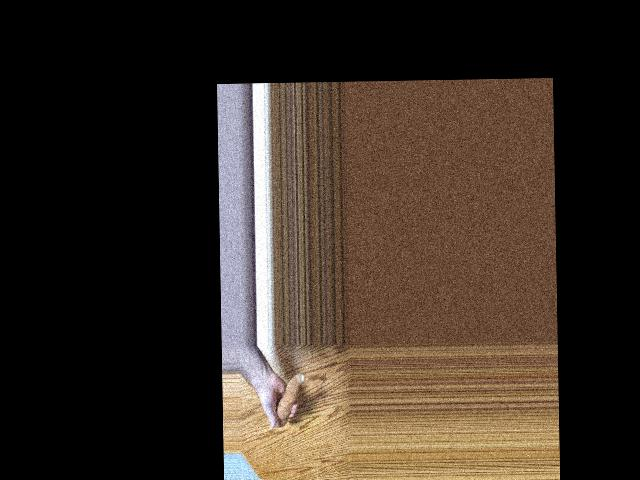sweet_potato: (275, 370, 305, 425)
